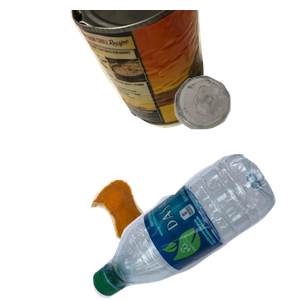glass: (172, 73, 300, 195)
metal: (68, 10, 265, 131)
plastic: (90, 154, 300, 300)
trash: (88, 177, 251, 300)
